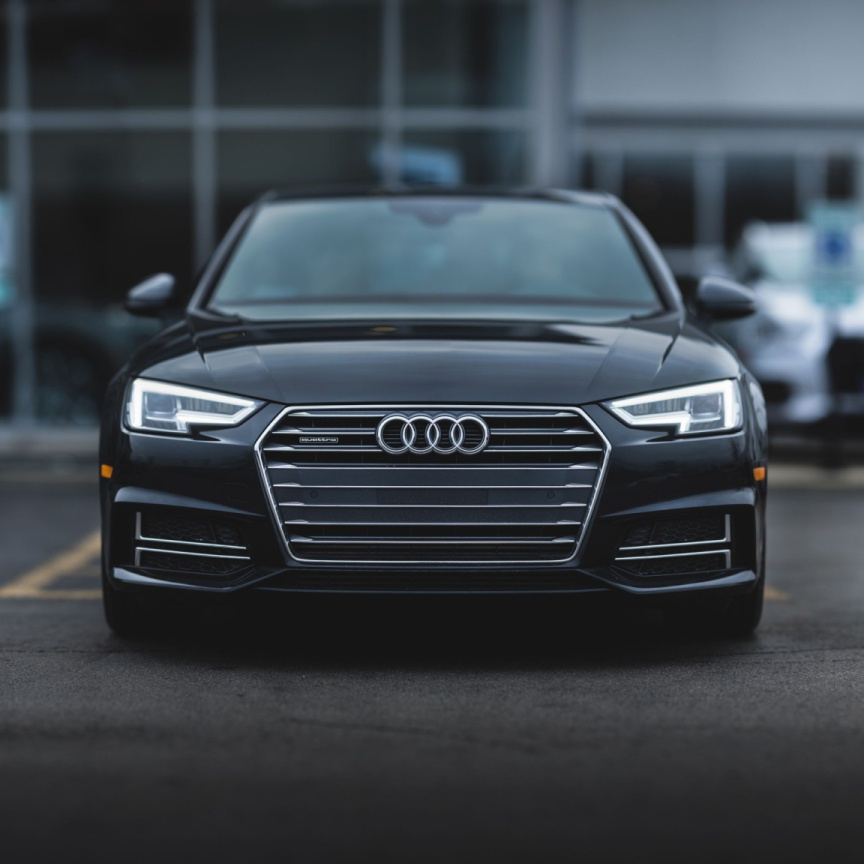audi: (368, 409, 502, 466)
